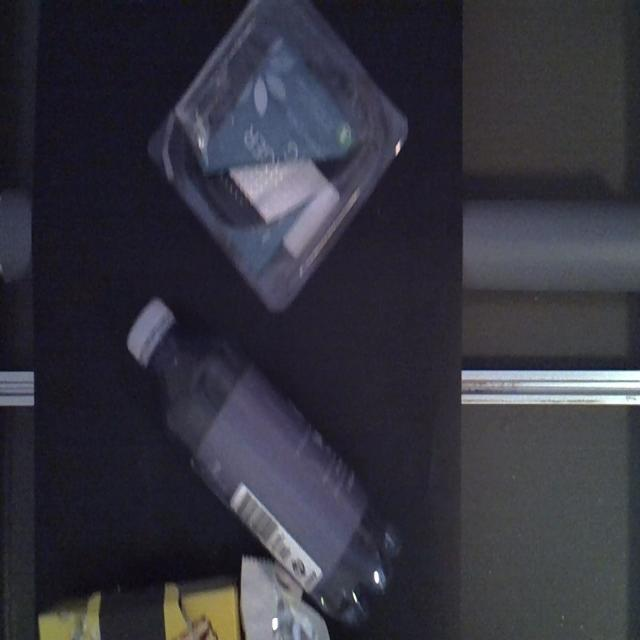bottle-plastic: (124, 291, 404, 626)
carton: (35, 583, 241, 640)
mixed-plastics: (144, 0, 411, 307)
packaging-soft-plastic: (240, 550, 333, 640)
